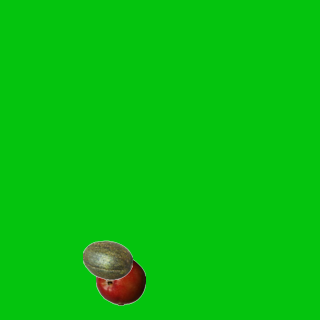Apple Braeburn: (95, 255, 145, 305)
Melon Piel de Sapo: (82, 235, 132, 285)
